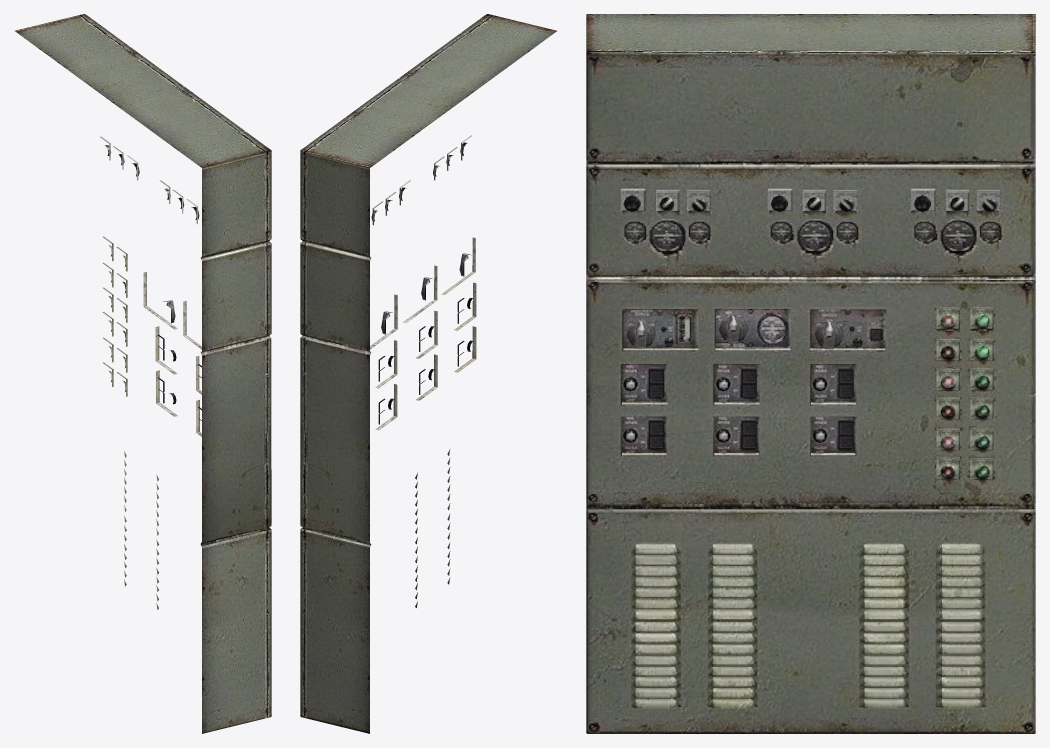
Rendered from wall_console3.glb.
3 renders of one model, left to right at view 1: azimuth 30°, elevation 25°; view 2: azimuth 150°, elevation 25°; view 3: azimuth 270°, elevation 25°, orthographic. The views are drawn at different scales.
Visible parts, largest first — view 1: 0_wall_console2, 1_wall_console1; view 2: 0_wall_console2, 1_wall_console1; view 3: 0_wall_console2, 1_wall_console1.
Boxes of the visible parts, box(x1,y1,x2,y2) form: 0_wall_console2: box(15, 14, 271, 733); 1_wall_console1: box(100, 136, 271, 716); 0_wall_console2: box(300, 14, 556, 733); 1_wall_console1: box(300, 135, 474, 716); 0_wall_console2: box(586, 14, 1035, 508); 1_wall_console1: box(586, 54, 1035, 733).
Bounding box in the file's own units: 0.3429 × 2.43 × 1.46.
Materials: 2 (2 with a texture image).
